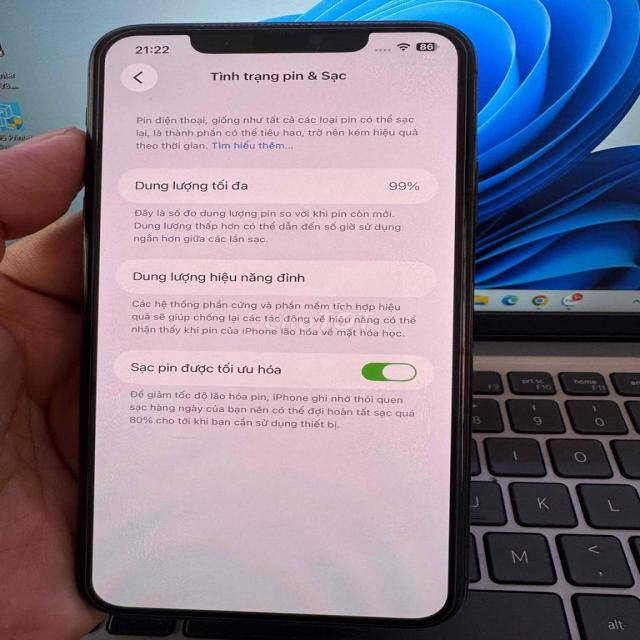gen_11: (70, 20, 477, 611)
